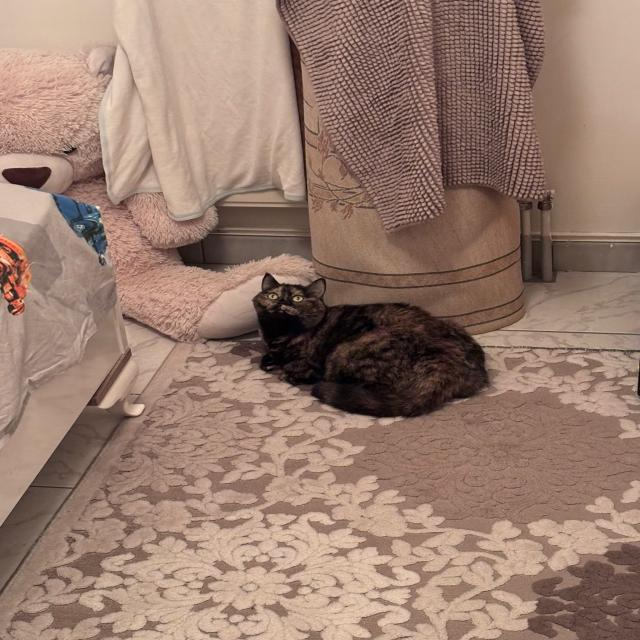authorized: (251, 272, 490, 418)
